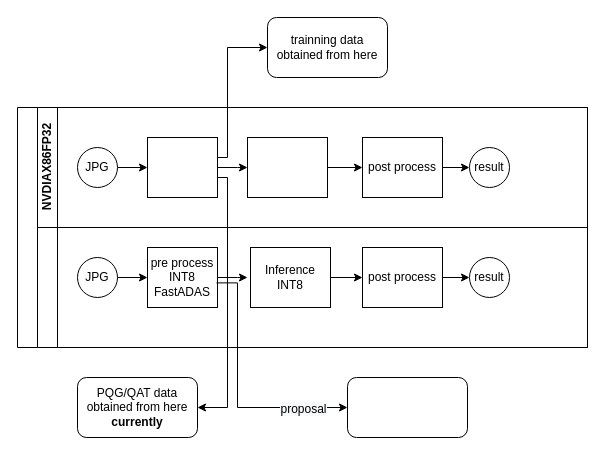
Some shapes in this 605 by 455 pixel diagram are drawn without their labels. The box of each missing label's shape, as (x1, y1, x2, y2) in pixels:
Get PQG/QAT data from here: (346, 376, 468, 438)
Inference compare: (16, 106, 588, 348)
Inference FP32: (246, 136, 328, 198)
pre process FP32 Open CV: (146, 136, 218, 198)
QC INT8: (36, 226, 588, 348)
